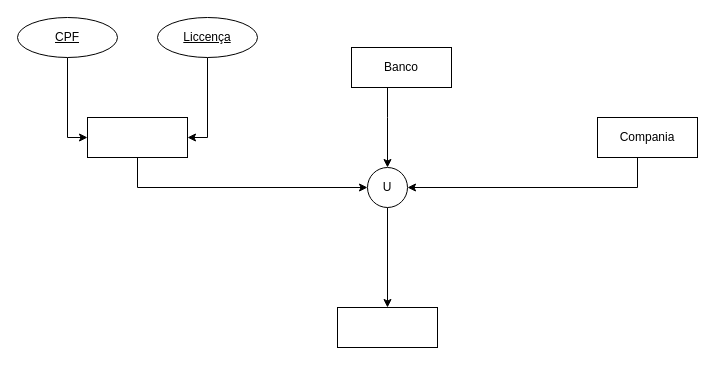
Image size: 715x365. Some labels were removed from this diagram. The shapes that lost their labels are listed below. From the top down, each one's box as (x1, y1, x2, y2) in pixels, then its label:
(86, 116, 188, 158): Pessoa
(336, 306, 438, 348): Owner
